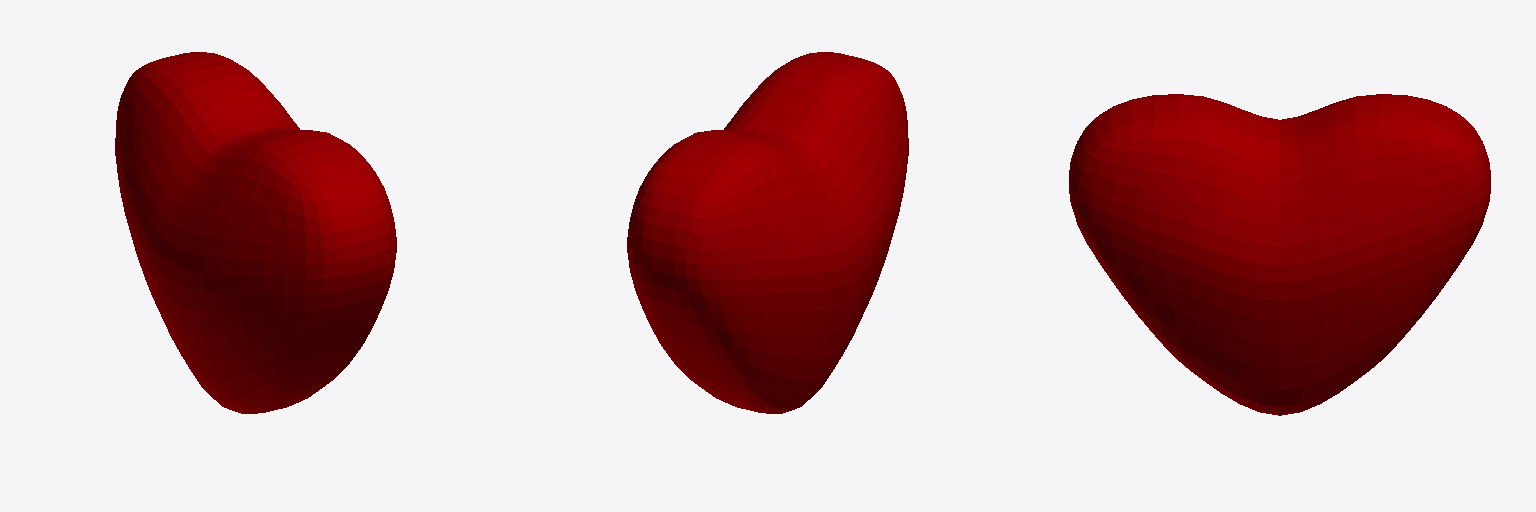
The model's file is Leben.obj.
The picture shows the model from 3 angles: view 1: azimuth 30°, elevation 25°; view 2: azimuth 150°, elevation 25°; view 3: azimuth 270°, elevation 25°; orthographic projection.
Parts seen in each view (by area): view 1: Cube_Cube.001; view 2: Cube_Cube.001; view 3: Cube_Cube.001.
Boxes of the visible parts, box(x1,y1,x2,y2) form: Cube_Cube.001: box(115, 52, 396, 413); Cube_Cube.001: box(627, 52, 908, 413); Cube_Cube.001: box(1069, 94, 1490, 415).
Size of the model in its own units: 1.23 by 2.02 by 2.57.